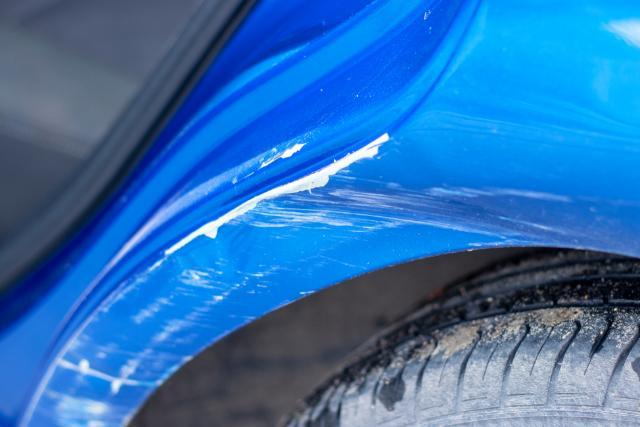Fender: (6, 116, 419, 427)
